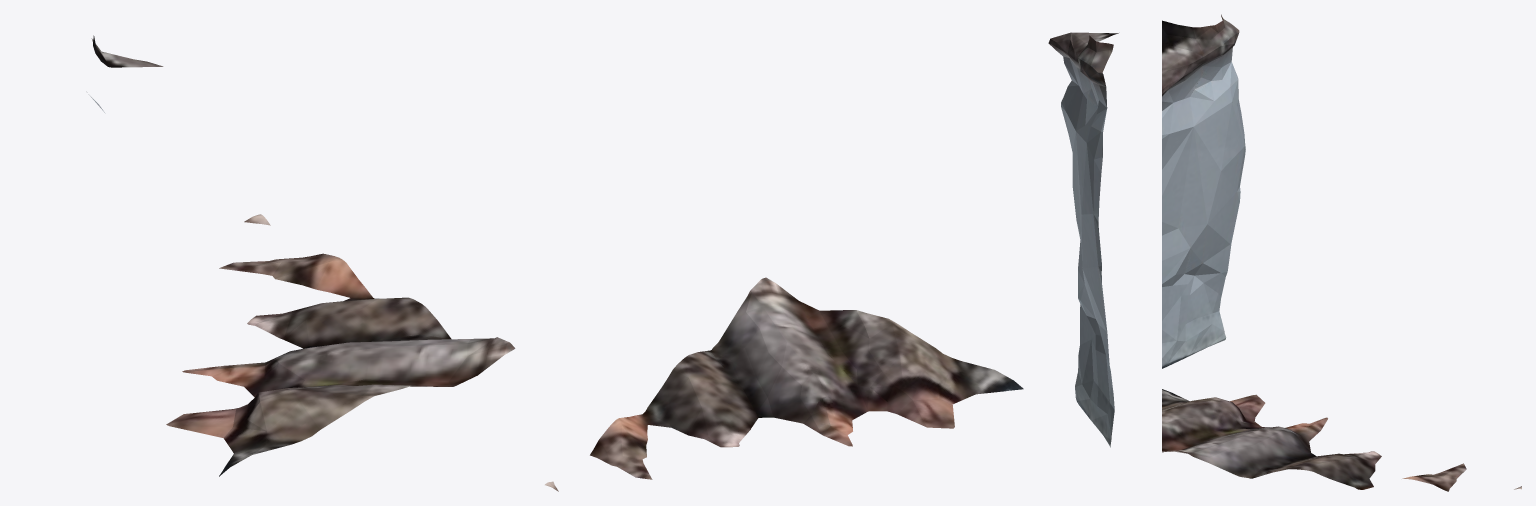
The picture shows the model from 3 angles, left to right: view 1: azimuth 30°, elevation 25°; view 2: azimuth 150°, elevation 25°; view 3: azimuth 270°, elevation 25°; orthographic projection. The views are drawn at different scales.
Size of the model in its own units: 0.8374 by 0.8373 by 0.8373.
Materials: 2 (2 with a texture image).
